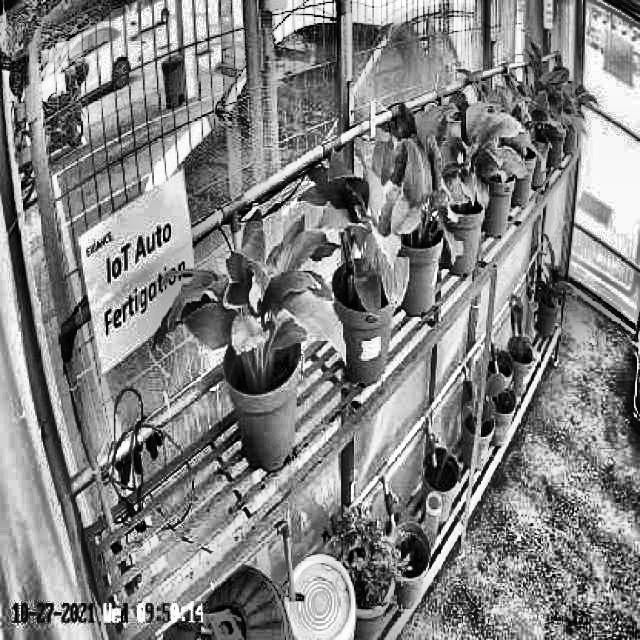plants: (152, 201, 346, 365), (305, 152, 410, 320), (413, 101, 524, 214), (380, 132, 463, 266)
